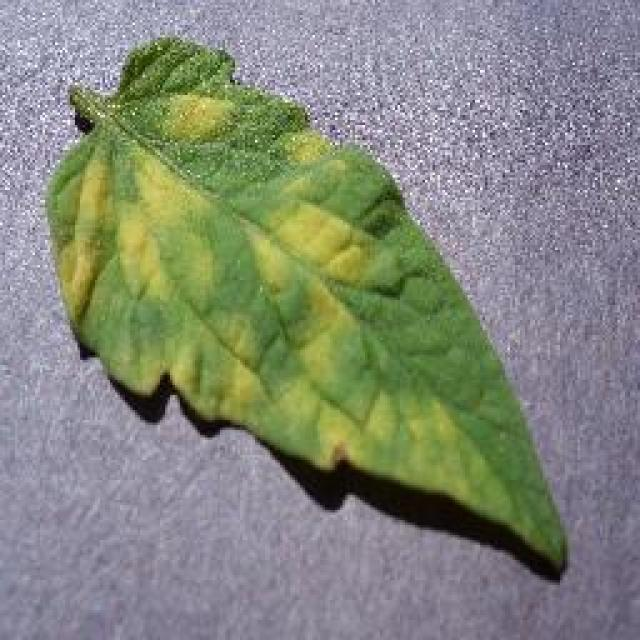Tomato___Leaf_Mold: (48, 38, 560, 565)
